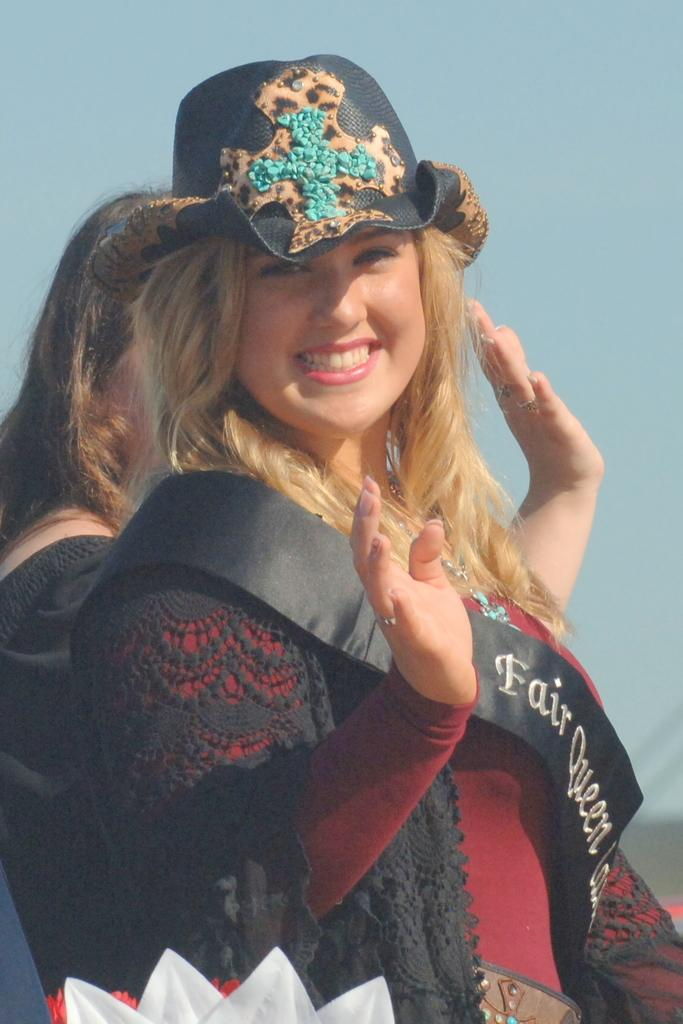Hat: (75, 52, 490, 302)
